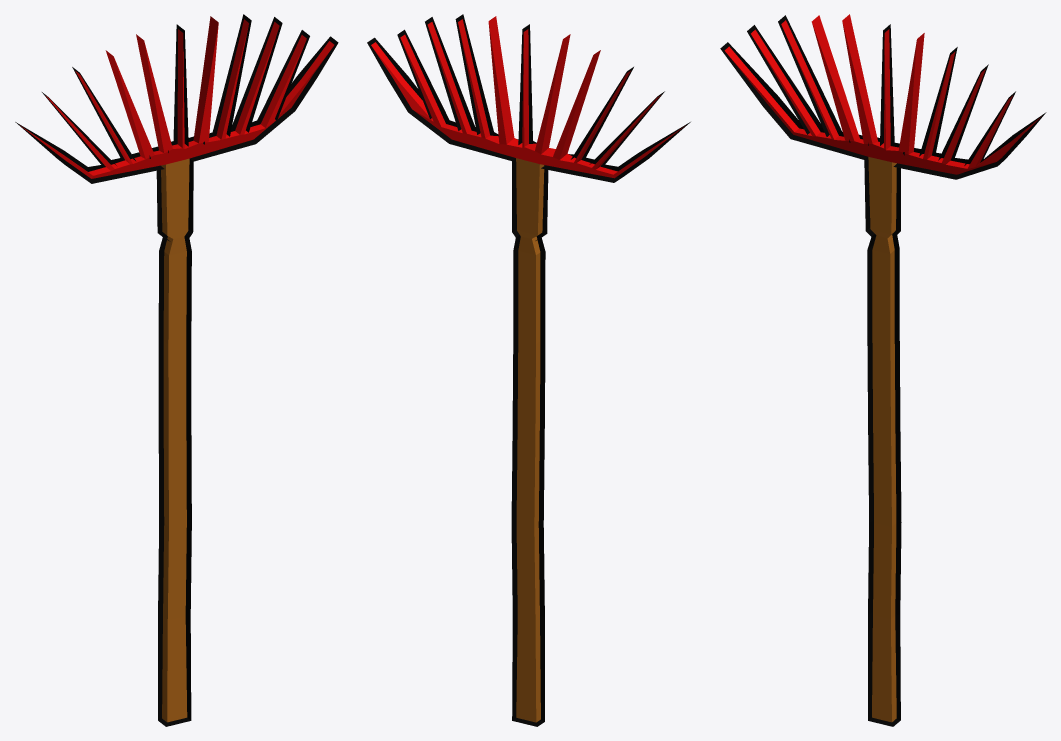
The model's file is грабли (2).fbx.
3 renders of one model, left to right at view 1: azimuth 30°, elevation 25°; view 2: azimuth 150°, elevation 25°; view 3: azimuth 330°, elevation 25°, orthographic.
Visible parts, largest first — view 1: Plane; view 2: Plane; view 3: Plane.
Part boxes in pixels (x1=…): Plane: x1=15, y1=14, x2=338, y2=726; Plane: x1=367, y1=14, x2=690, y2=726; Plane: x1=720, y1=14, x2=1046, y2=726.
Size of the model in its own units: 212 by 443 by 11.93.
